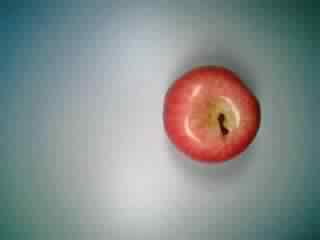apple: (162, 64, 266, 165)
